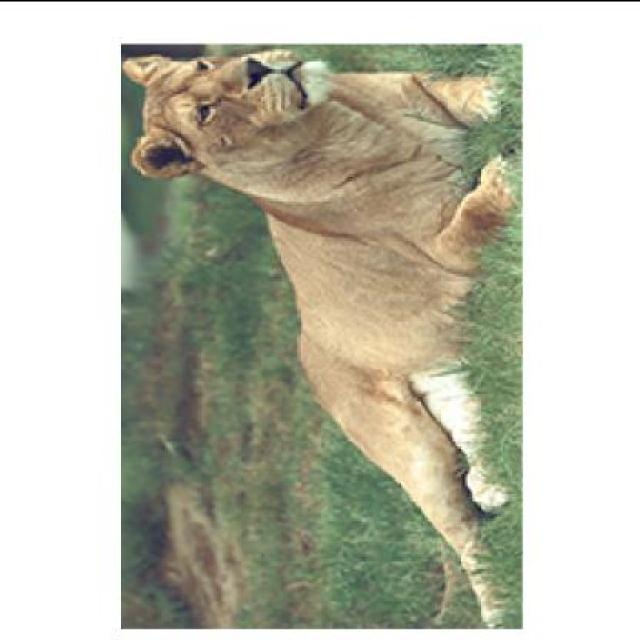Lion: (99, 32, 563, 636)
